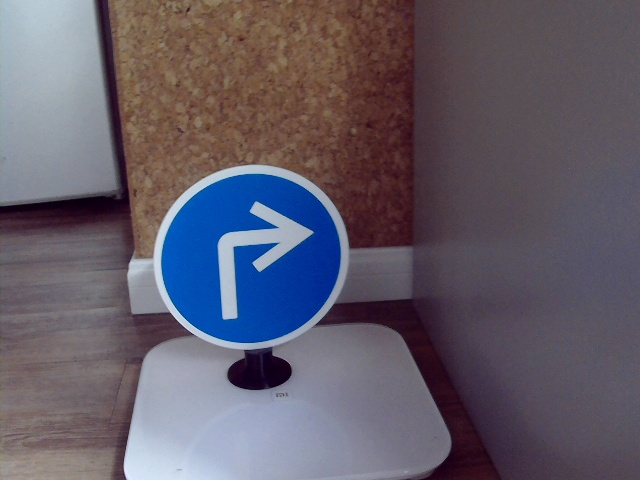turn_right: (204, 201, 302, 321)
